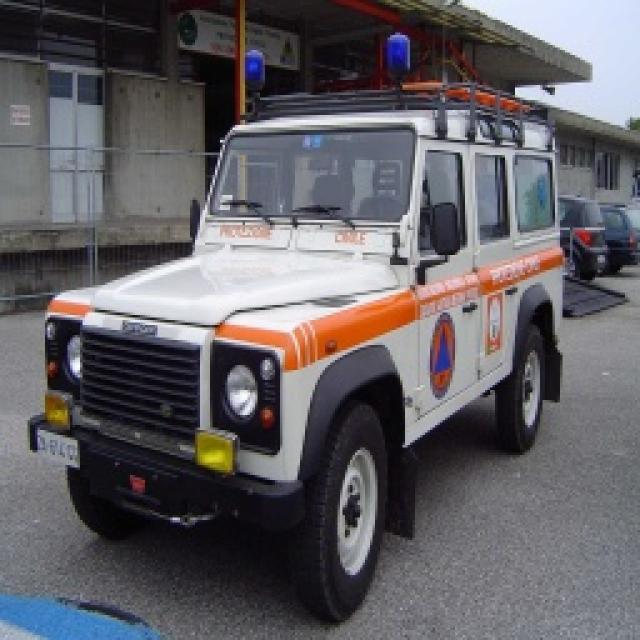ambulance: (37, 75, 575, 617)
